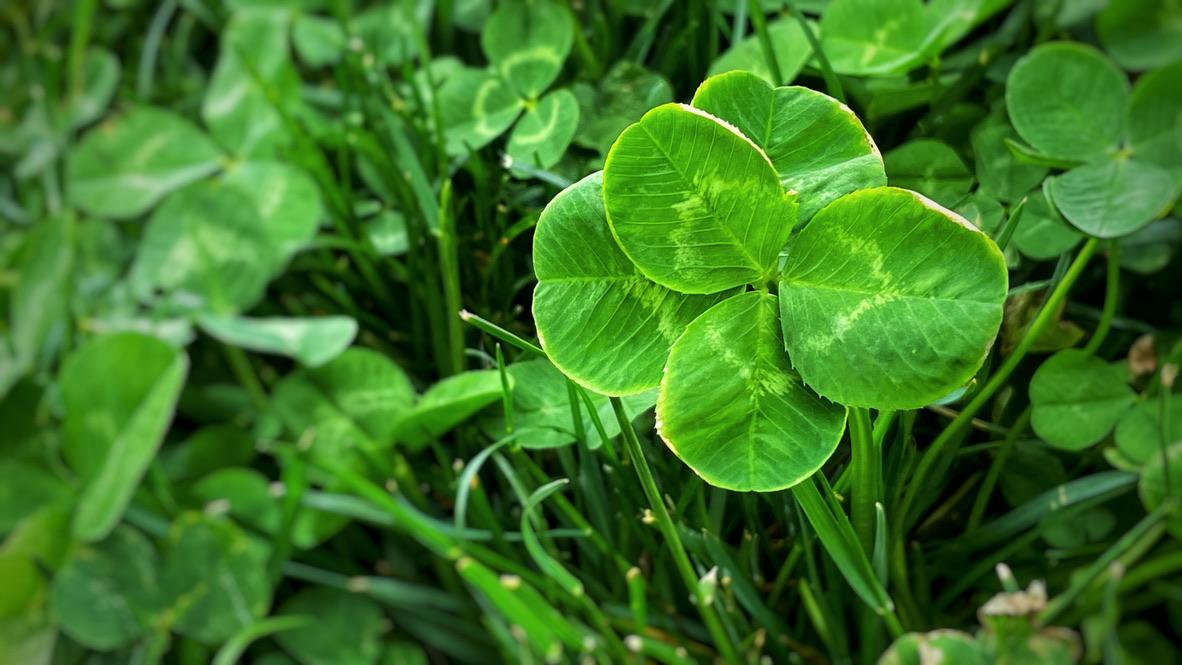5-Leaf-Clovers: (128, 95, 870, 366)
